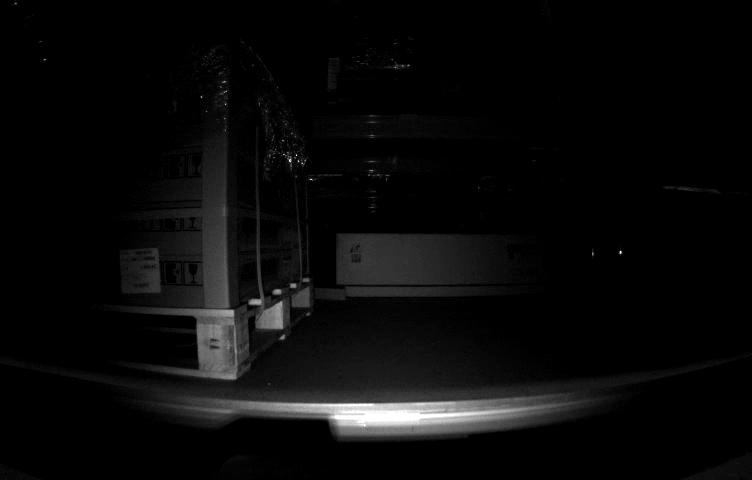True Barcode: (118, 250, 160, 291)
